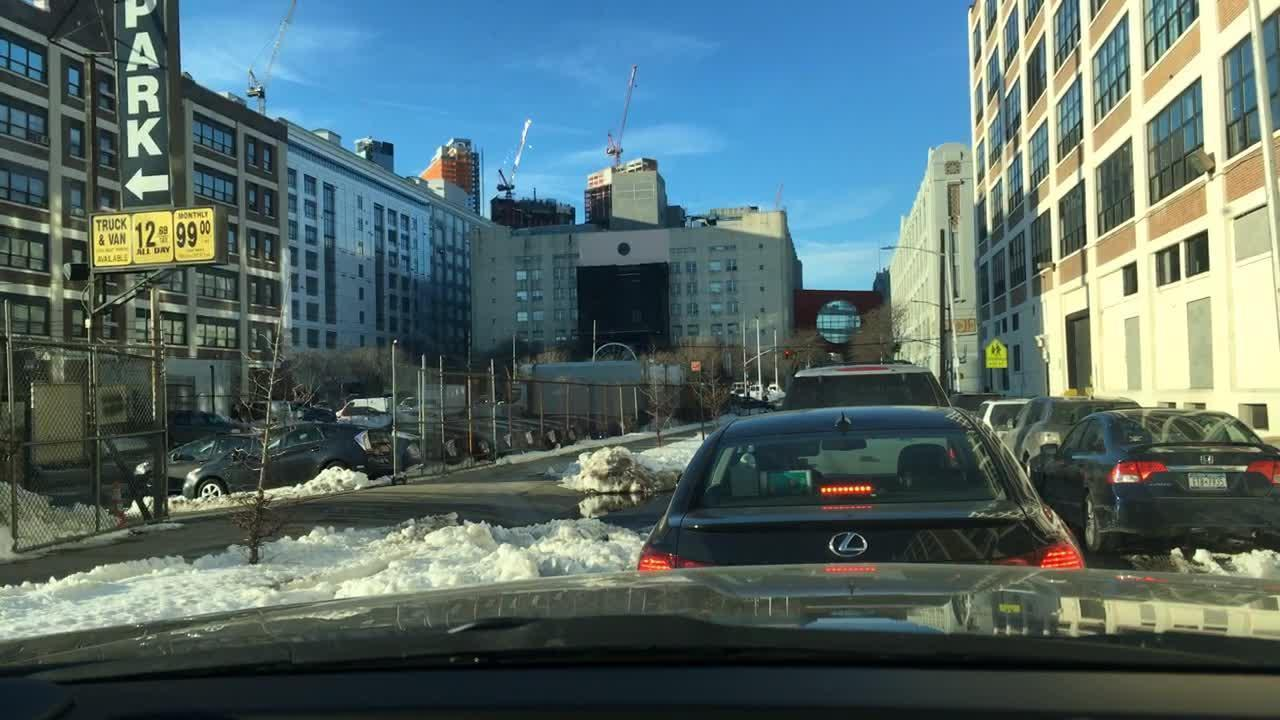Honda: (1194, 453, 1219, 465)
lexus: (828, 525, 872, 559)
